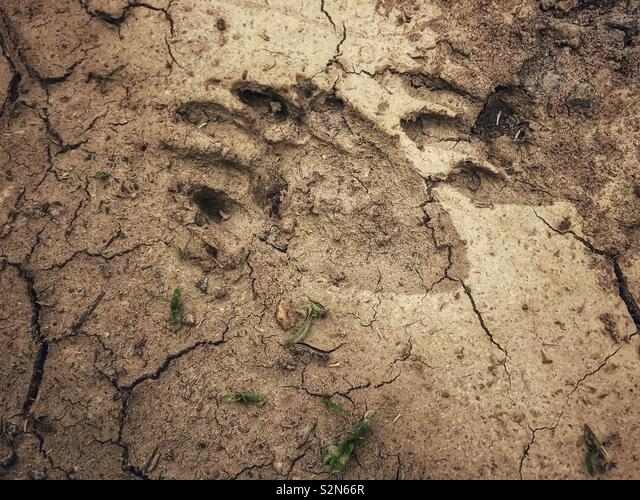raccoon: (118, 62, 499, 321)
